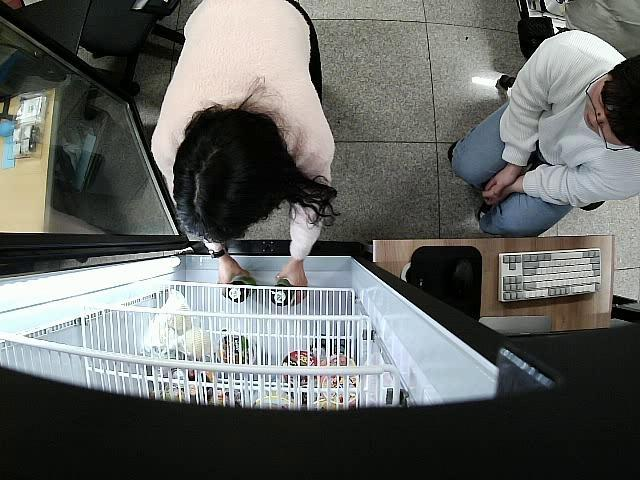19_17cha: (225, 275, 255, 304), (271, 278, 295, 306)
